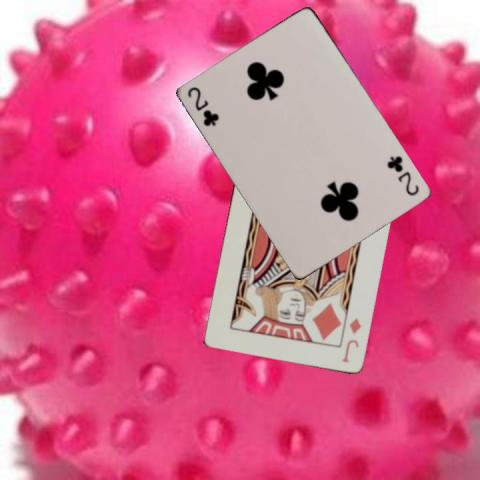2c: (384, 153, 421, 197), (184, 83, 220, 128)
Jd: (338, 315, 362, 363)
